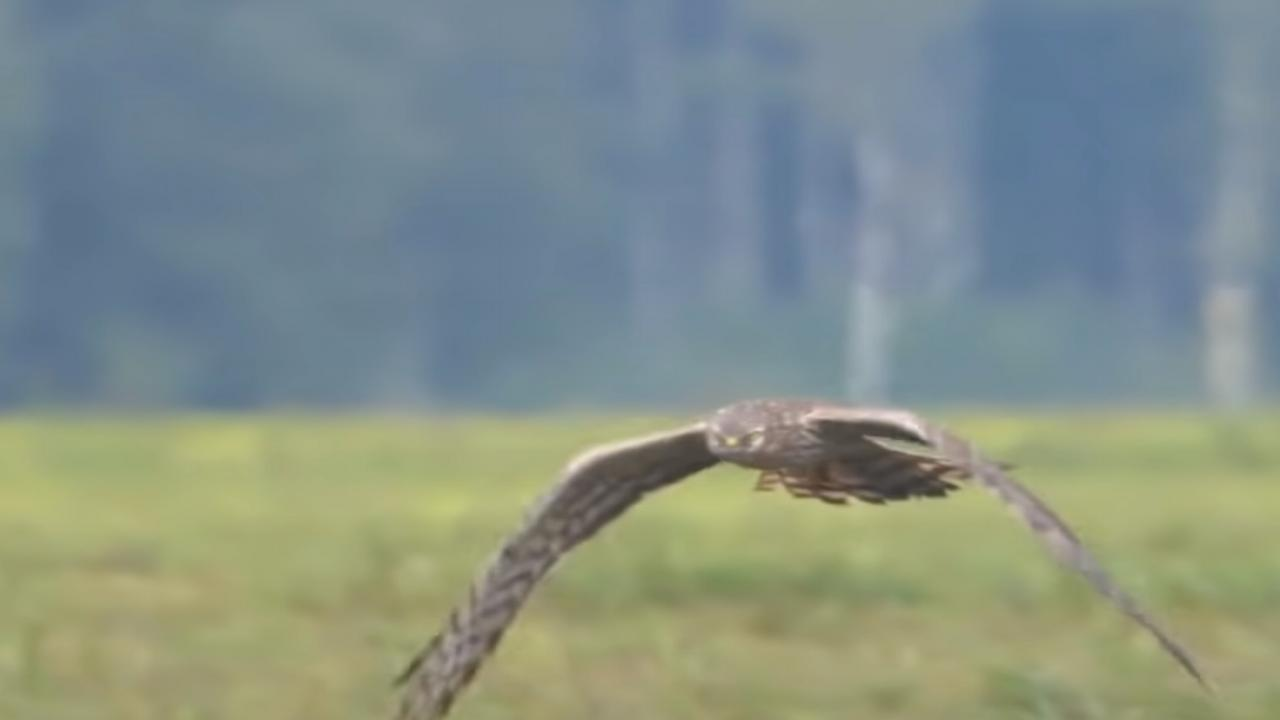Bird: (377, 388, 1227, 720)
